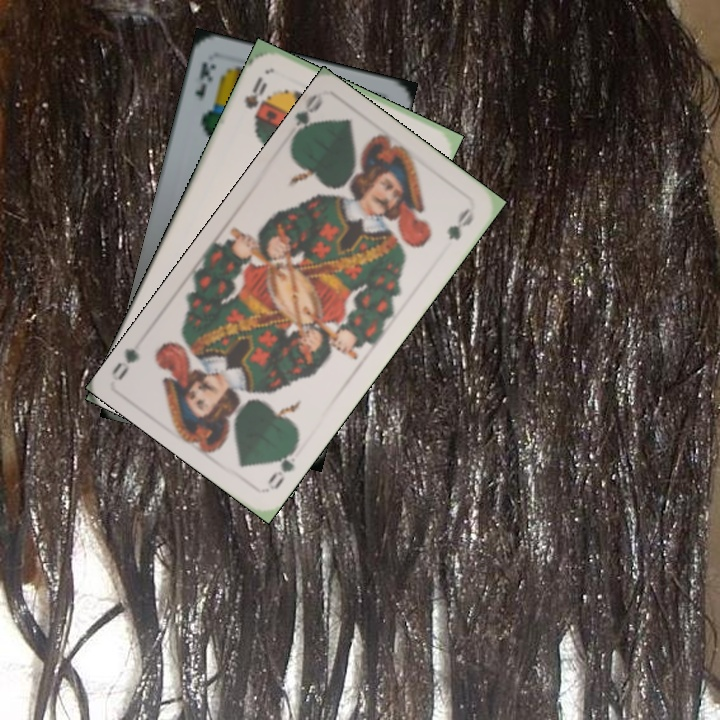EK: (190, 58, 219, 105)
GO: (286, 92, 326, 147), (263, 439, 301, 493)
SO: (240, 72, 270, 123)
